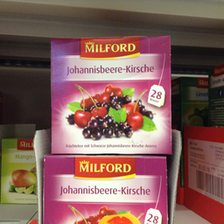tea: (51, 35, 172, 156), (44, 155, 168, 224)
